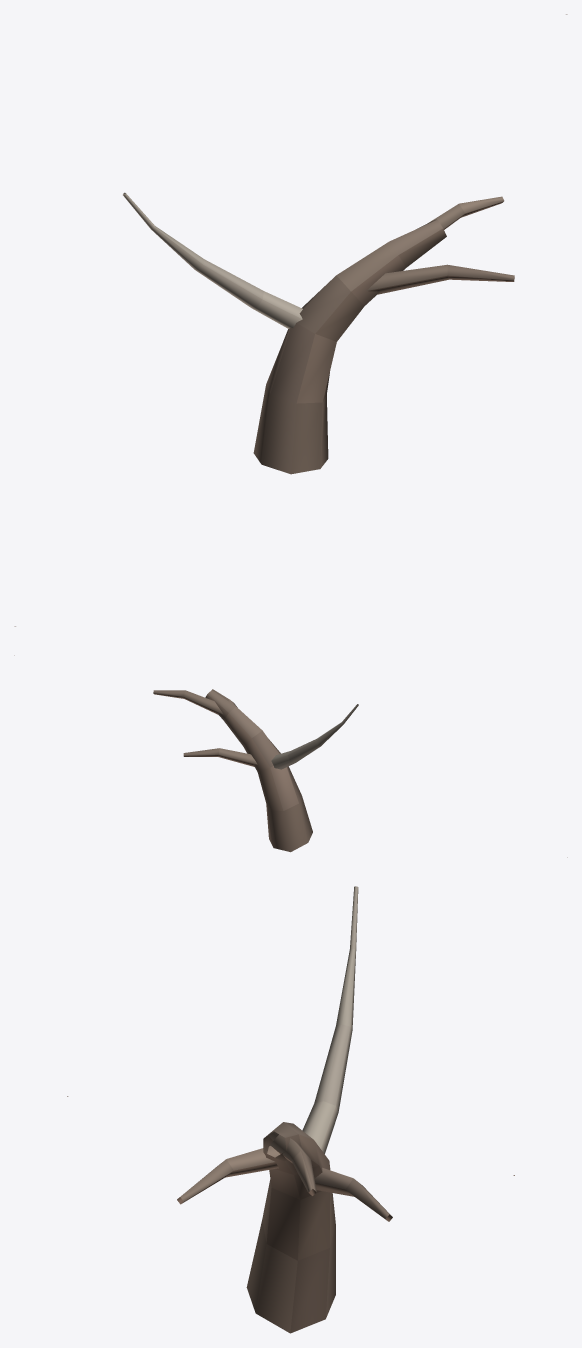
Rendered from Juniper2_bark.glb.
The picture shows the model from 3 angles, top to bottom: view 1: azimuth 30°, elevation 25°; view 2: azimuth 150°, elevation 25°; view 3: azimuth 270°, elevation 25°; orthographic projection. The views are drawn at different scales.
Parts seen in each view (by area): view 1: Juniper2_bark; view 2: Juniper2_bark; view 3: Juniper2_bark.
Boxes of the visible parts, x1=… form: Juniper2_bark: x1=14, y1=14, x2=567, y2=626; Juniper2_bark: x1=14, y1=655, x2=567, y2=857; Juniper2_bark: x1=67, y1=886, x2=514, y2=1333.
Size of the model in its own units: 9.28 by 3.53 by 4.07.
